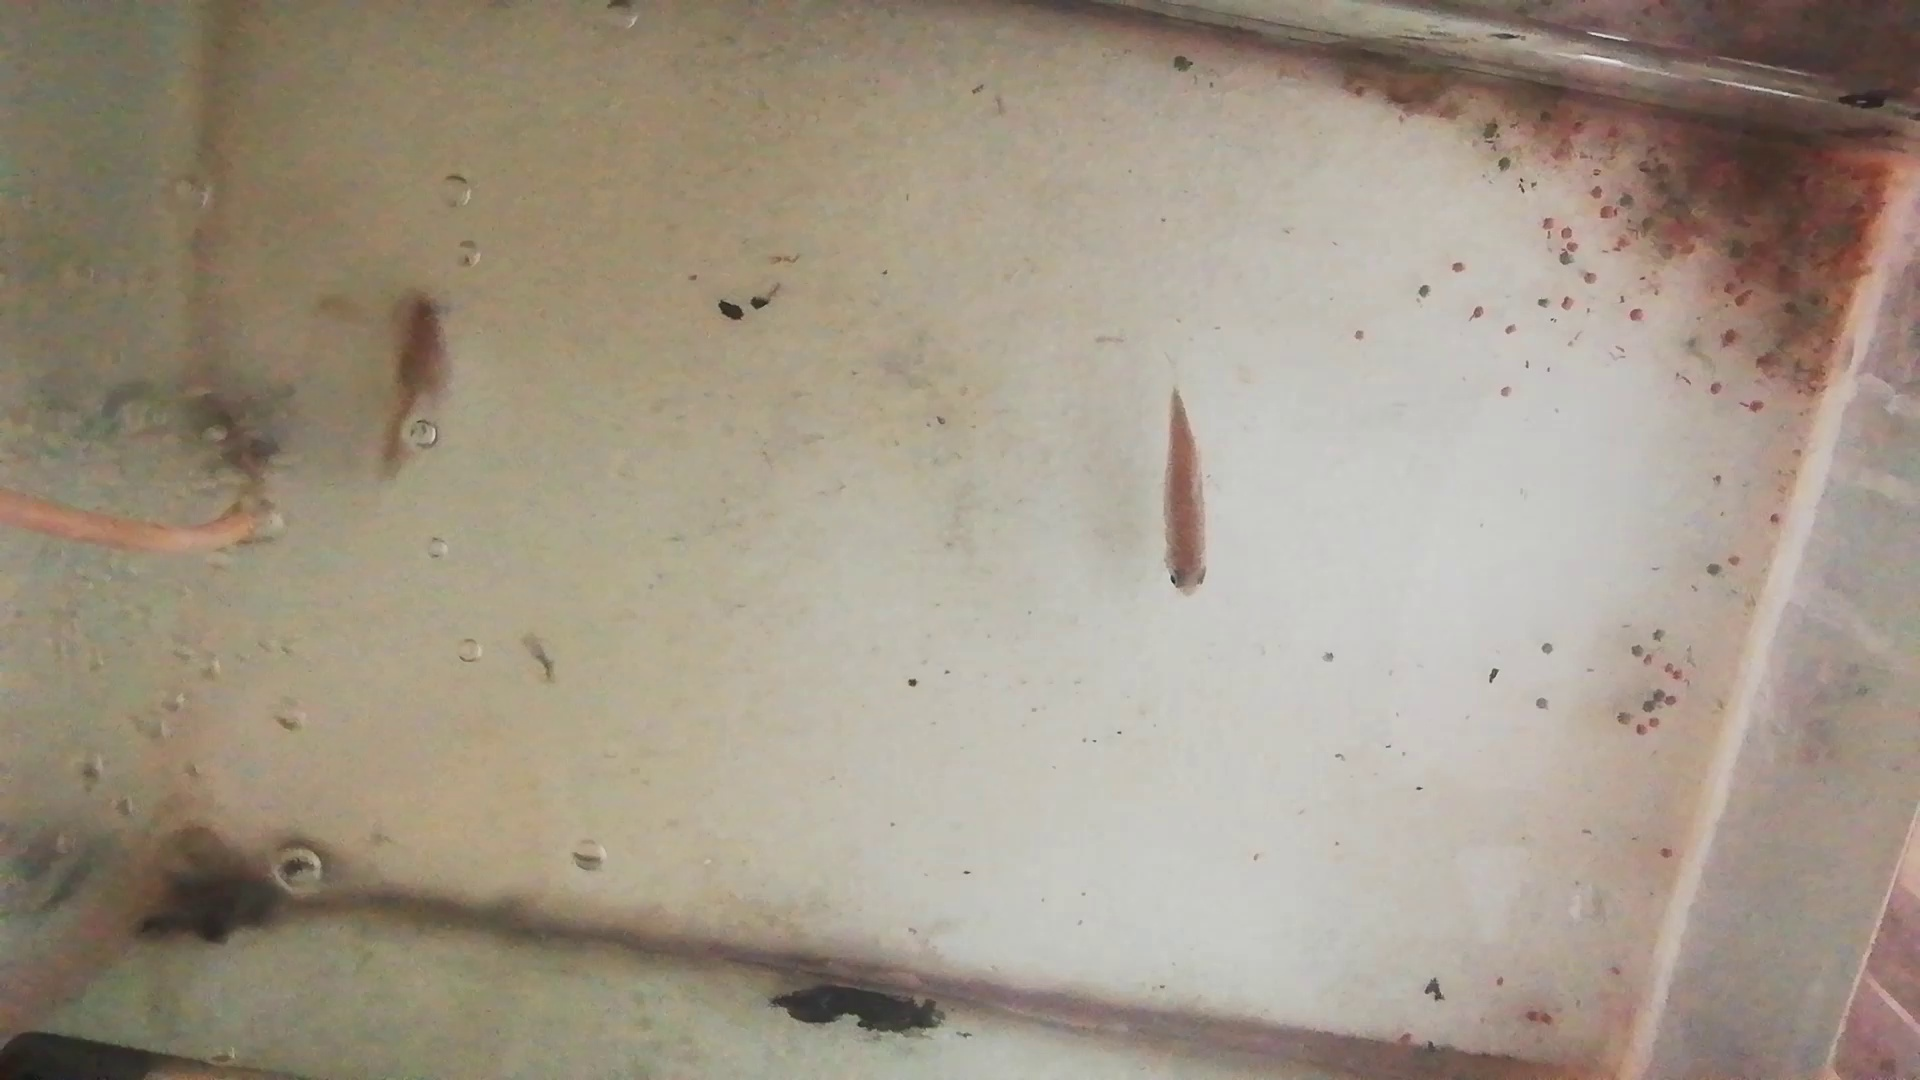fish: (382, 295, 454, 483), (1162, 385, 1213, 600)
